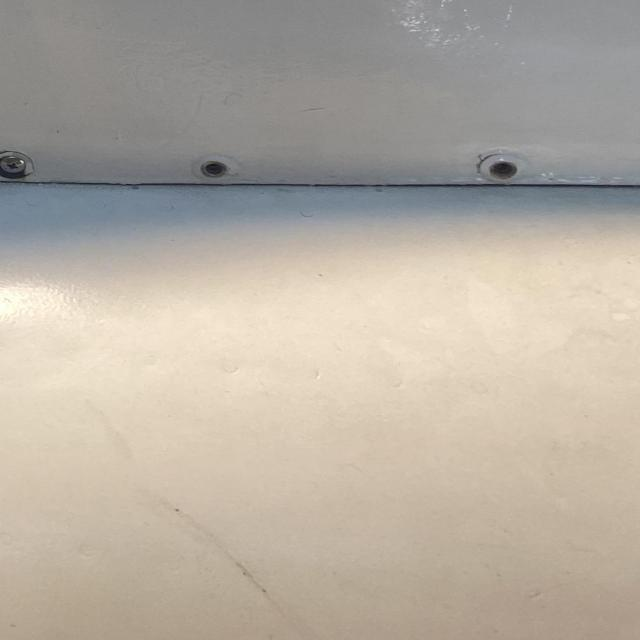Missing-head: (480, 155, 530, 186), (195, 157, 241, 185)
